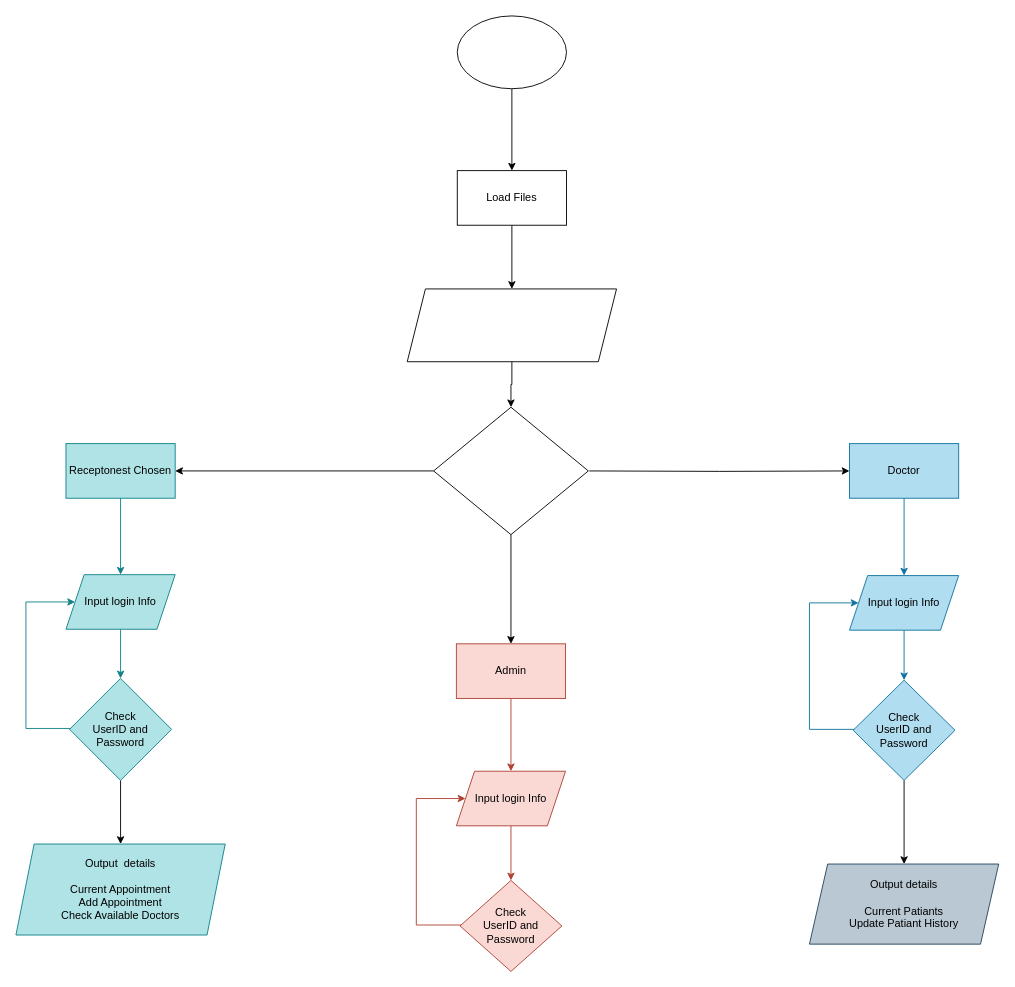
Some shapes in this 1015 by 987 pixel diagram are drawn without their labels. The shapes that lost their labels are listed below. From the top down, each one's centre as x and y in pixels, then its label:
At [511,52]: "Start".
At [511,325]: "Ask user for with type of user is it".
At [510,470]: "Reeceptionest / Doctor / Admin".
